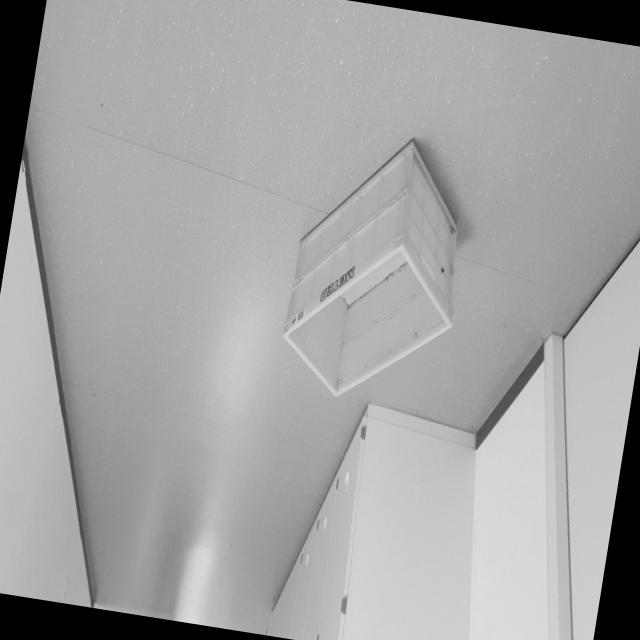box: (267, 121, 484, 420)
